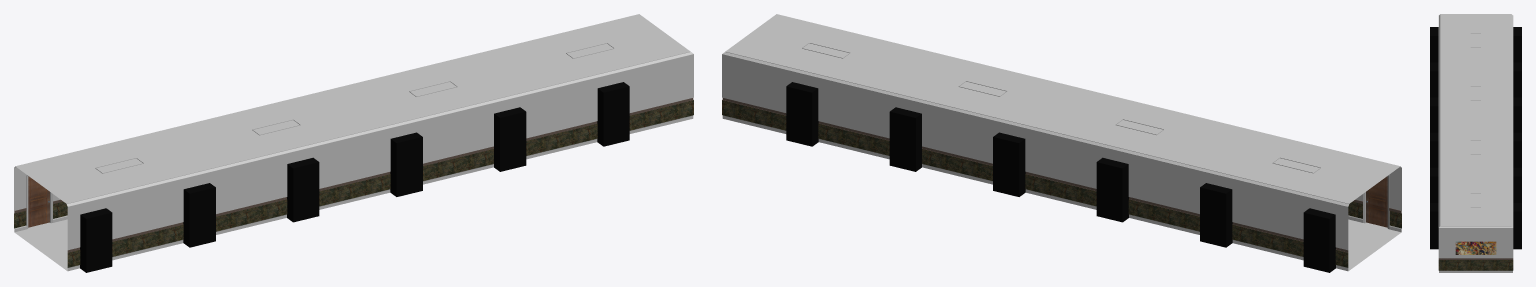
The model's file is hall97.dae.
The picture shows the model from 3 angles, left to right: view 1: azimuth 30°, elevation 25°; view 2: azimuth 150°, elevation 25°; view 3: azimuth 270°, elevation 25°; orthographic projection. The views are drawn at different scales.
Visible parts, largest first — view 1: group_0 (×16), group_1, instance_0; view 2: group_0 (×16), group_1, instance_9; view 3: group_1, group_0 (×19).
Part boxes in pixels (x1=…): group_0 (×16): x1=14, y1=51, x2=693, y2=272; group_1: x1=15, y1=14, x2=690, y2=203; instance_0: x1=28, y1=176, x2=49, y2=227; group_0 (×16): x1=722, y1=51, x2=1401, y2=272; group_1: x1=725, y1=14, x2=1400, y2=203; instance_9: x1=1366, y1=176, x2=1387, y2=227; group_1: x1=1440, y1=14, x2=1511, y2=225; group_0 (×19): x1=1430, y1=14, x2=1521, y2=272.
Bounding box in the file's own units: 1059 × 193 × 109.
